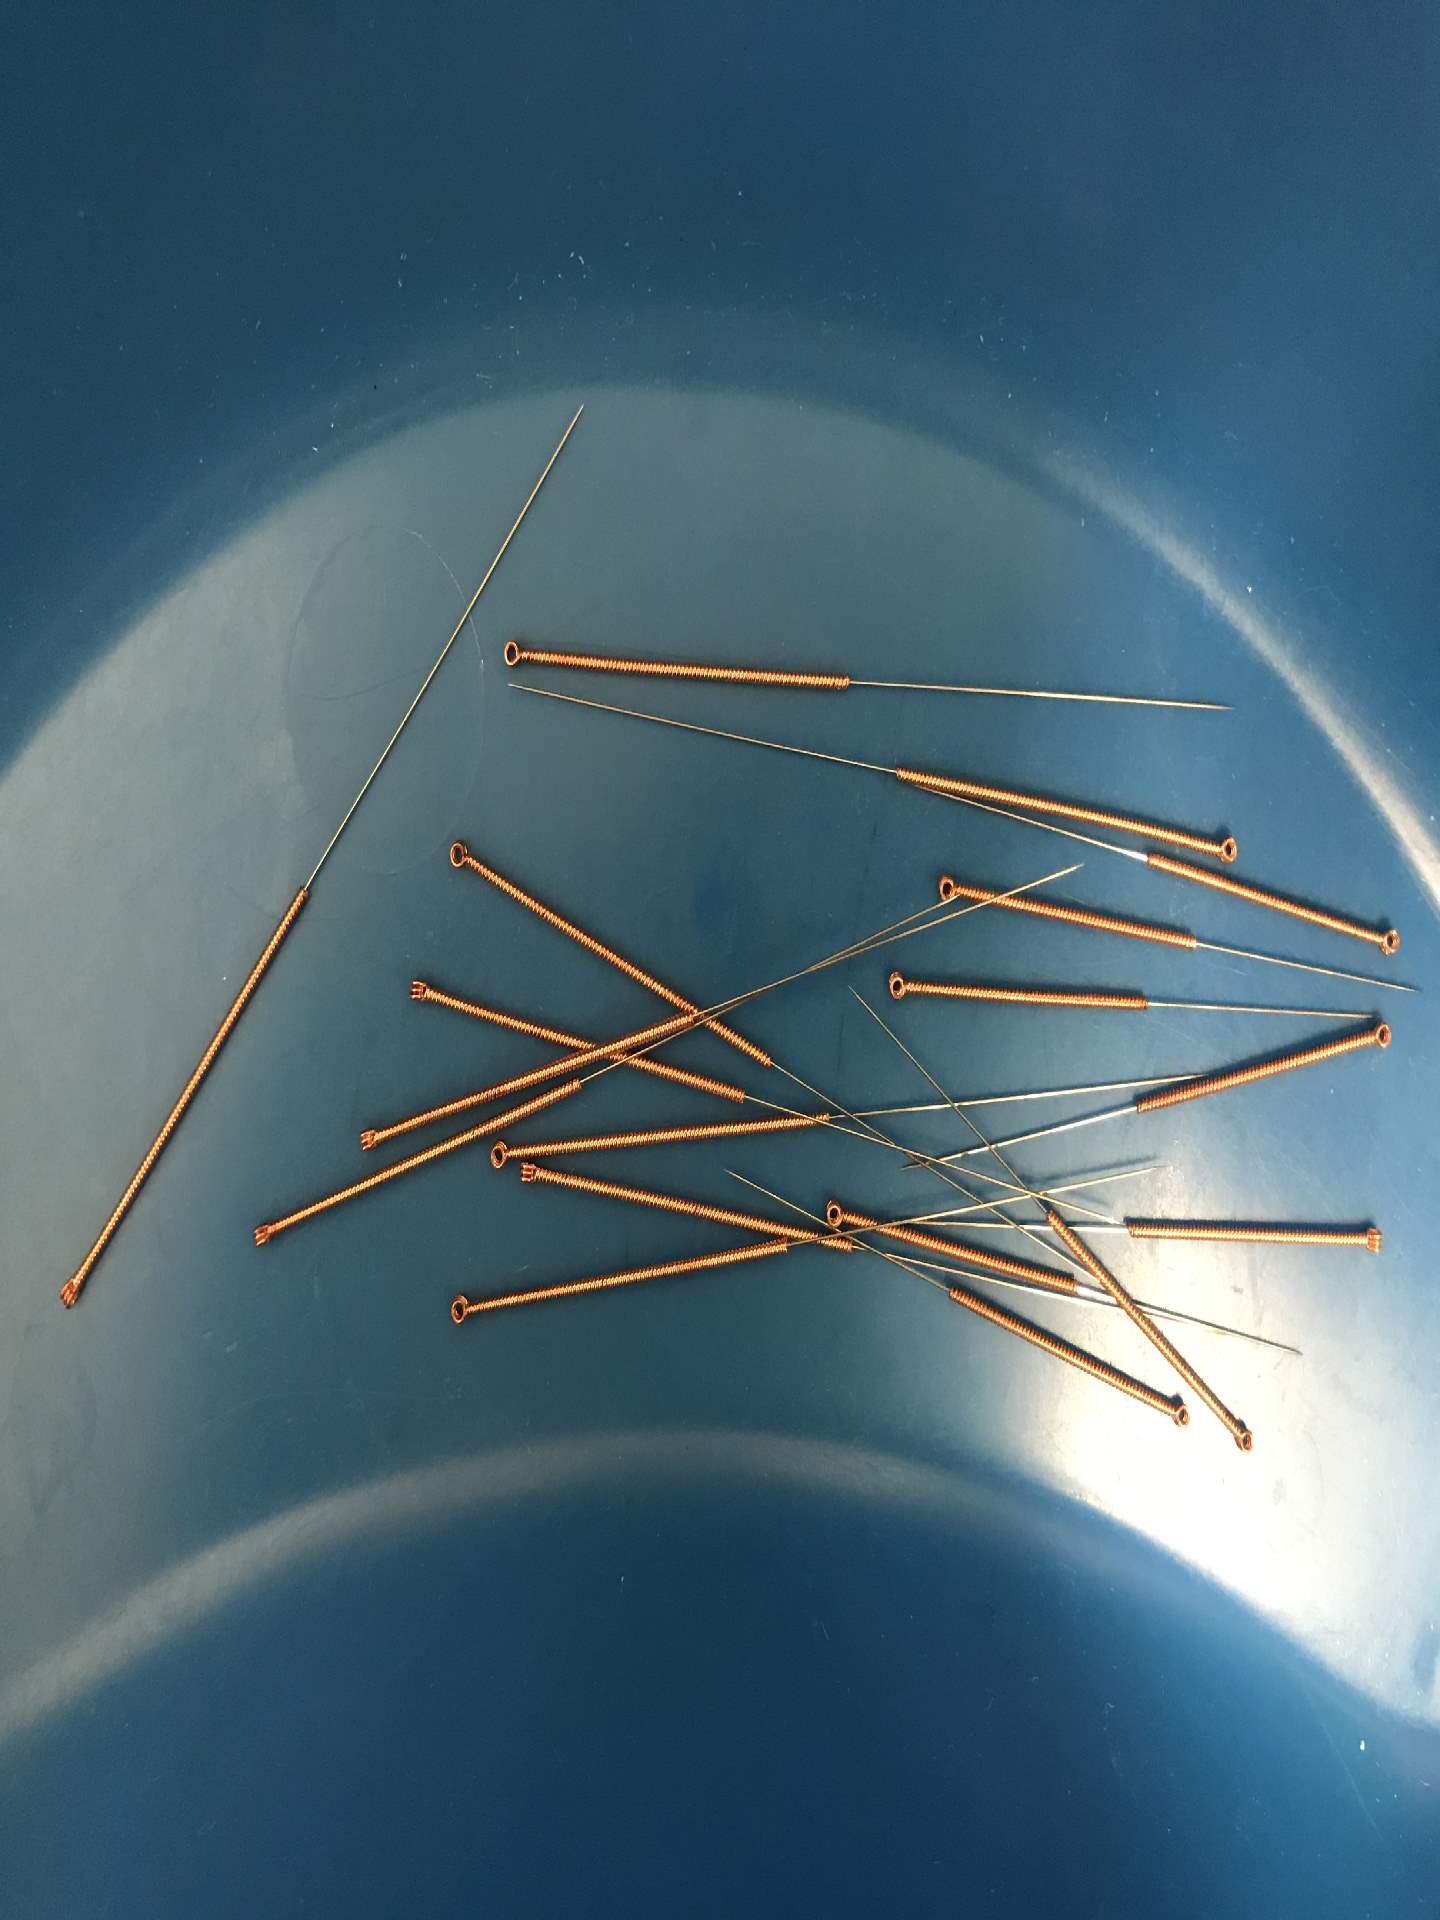needle: (490, 629, 535, 677), (1203, 825, 1248, 874), (1364, 915, 1408, 963), (51, 1265, 91, 1317), (439, 1288, 479, 1333), (929, 866, 970, 910), (1349, 1219, 1390, 1262), (879, 965, 918, 1008), (1361, 1014, 1401, 1058), (244, 1212, 283, 1256), (439, 831, 478, 875), (402, 972, 442, 1013), (349, 1117, 387, 1160), (1157, 1391, 1193, 1435), (1224, 1409, 1257, 1456), (483, 1134, 517, 1175), (511, 1157, 548, 1194), (818, 1194, 853, 1234)
